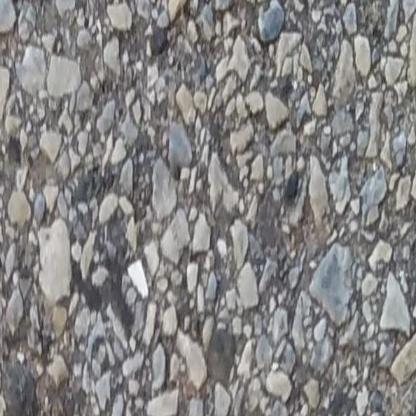Cracks: (0, 402, 83, 416)
